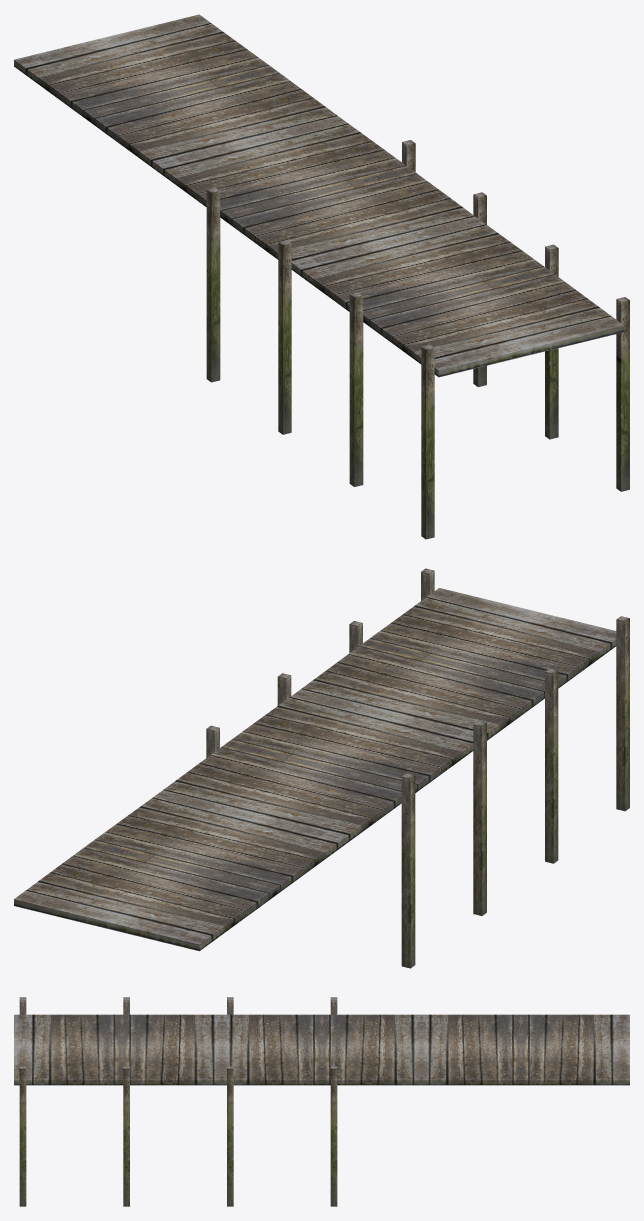
The model's file is pier1.fbx.
The picture shows the model from 3 angles, top to bottom: view 1: azimuth 30°, elevation 25°; view 2: azimuth 150°, elevation 25°; view 3: azimuth 270°, elevation 25°; orthographic projection. The views are drawn at different scales.
Visible parts, largest first — view 1: pomost1_pomost1; view 2: pomost1_pomost1; view 3: pomost1_pomost1.
Part boxes in pixels (x1=…): pomost1_pomost1: x1=14, y1=14, x2=629, y2=539; pomost1_pomost1: x1=14, y1=568, x2=629, y2=968; pomost1_pomost1: x1=14, y1=997, x2=629, y2=1206.
Bounding box in the file's own units: 3.69 × 3.27 × 13.29.
